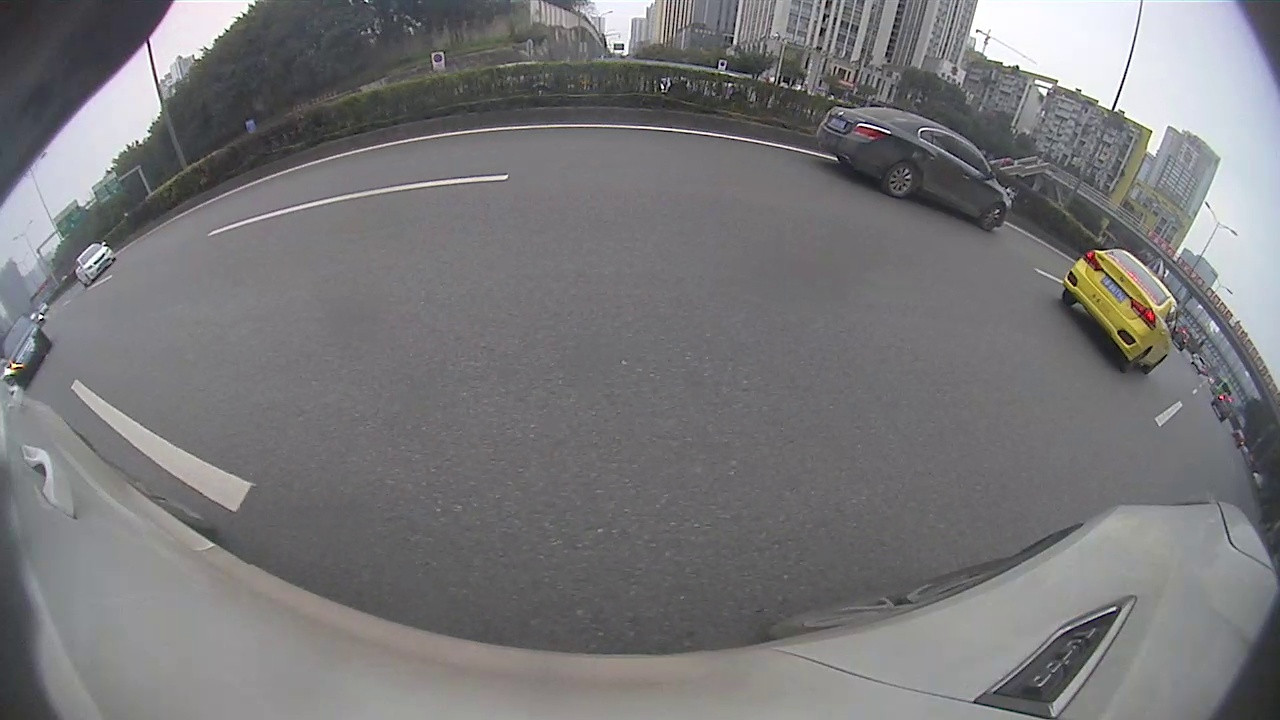car: (813, 104, 1014, 234), (1059, 233, 1180, 376), (2, 313, 54, 392), (73, 240, 115, 290)
front: (978, 205, 1004, 233)
rear: (881, 163, 919, 200), (1115, 349, 1150, 375)
